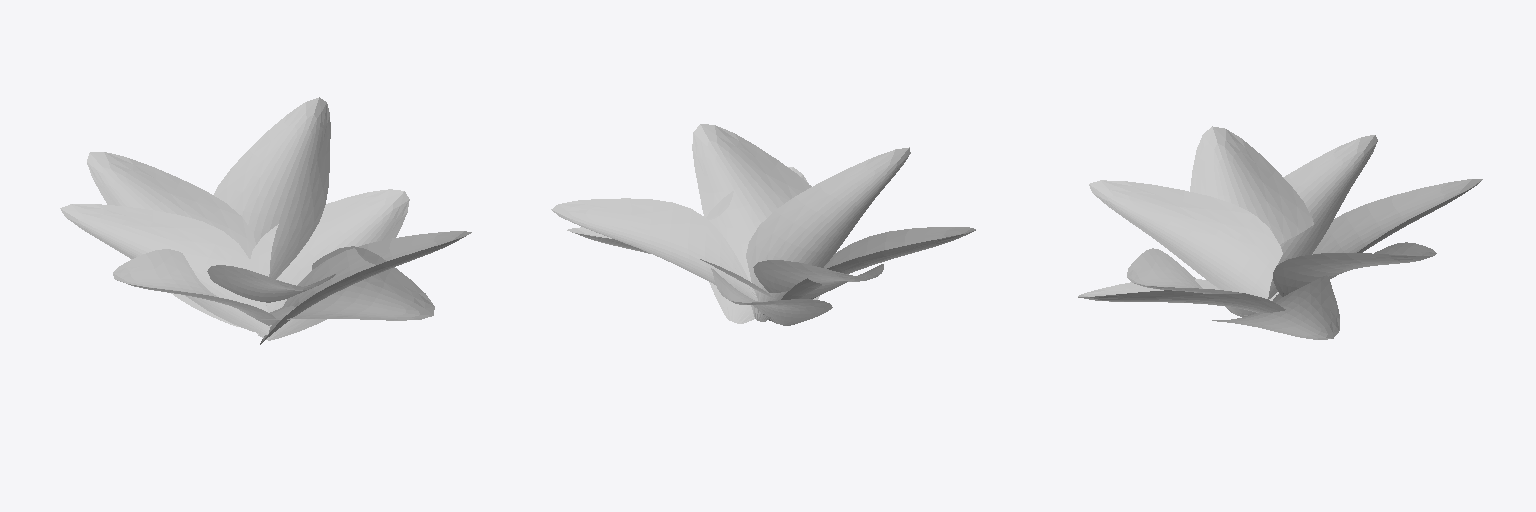
File: plant.obj
3 views of the same model, side by side, from view 1: azimuth 30°, elevation 25°; view 2: azimuth 150°, elevation 25°; view 3: azimuth 270°, elevation 25° (orthographic).
Parts seen in each view (by area): view 1: Leave_4, Leave_5, Rose:Leave_5, Rose:Leave_3, Rose:Leave, Leave_3, Leave_6, Leave_7; view 2: Leave_7, Leave_3, Leave_4, Leave_6, Leave_5, Rose:Leave_3, Rose:Leave, Rose:Leave_5; view 3: Leave_7, Leave_6, Leave_5, Rose:Leave_3, Rose:Leave_5, Leave_4, Rose:Leave, Leave_3.
Part boxes in pixels (x1,y1,x2,y2): Leave_4: (214, 97, 330, 278); Leave_5: (60, 204, 269, 334); Rose:Leave_5: (250, 189, 409, 340); Rose:Leave_3: (87, 152, 255, 326); Rose:Leave: (261, 246, 434, 320); Leave_3: (260, 231, 471, 344); Leave_6: (113, 249, 275, 325); Leave_7: (207, 265, 335, 302); Leave_7: (746, 147, 910, 321); Leave_3: (692, 124, 819, 299); Leave_4: (551, 198, 757, 300); Leave_6: (769, 227, 975, 320); Leave_5: (753, 260, 883, 298); Rose:Leave_3: (711, 268, 832, 325); Rose:Leave: (706, 167, 808, 323); Rose:Leave_5: (567, 227, 775, 298); Leave_7: (1089, 180, 1282, 300); Leave_6: (1190, 126, 1314, 254); Leave_5: (1240, 135, 1377, 315); Rose:Leave_3: (1314, 179, 1482, 253); Rose:Leave_5: (1212, 275, 1339, 339); Leave_4: (1273, 242, 1436, 296); Rose:Leave: (1078, 279, 1285, 312); Leave_3: (1127, 248, 1255, 316).
Size of the model in its own units: 50.1 by 18.67 by 50.28.